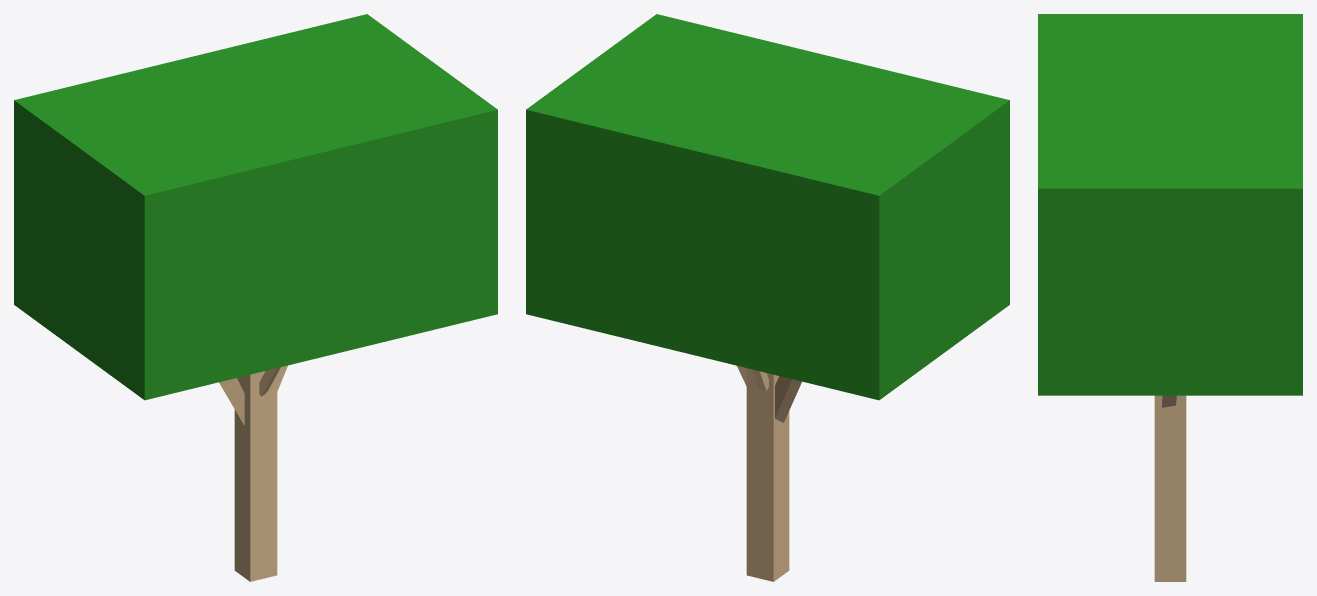
File: arbol1.glb
3 views of the same model, side by side, from view 1: azimuth 30°, elevation 25°; view 2: azimuth 150°, elevation 25°; view 3: azimuth 270°, elevation 25° (orthographic).
Visible parts, largest first — view 1: Cube.005, Cube, Cube.003; view 2: Cube.005, Cube, Cube.003; view 3: Cube.005, Cube.
Part boxes in pixels (left/top/right/bottom): Cube.005: left=14, top=14, right=497, bottom=400; Cube: left=234, top=371, right=277, bottom=581; Cube.003: left=219, top=378, right=244, bottom=425; Cube.005: left=526, top=14, right=1009, bottom=400; Cube: left=746, top=368, right=789, bottom=581; Cube.003: left=775, top=376, right=801, bottom=422; Cube.005: left=1038, top=14, right=1302, bottom=395; Cube: left=1154, top=395, right=1186, bottom=581.
Bounding box in the file's own units: 13.03 × 16.49 × 8.35.
